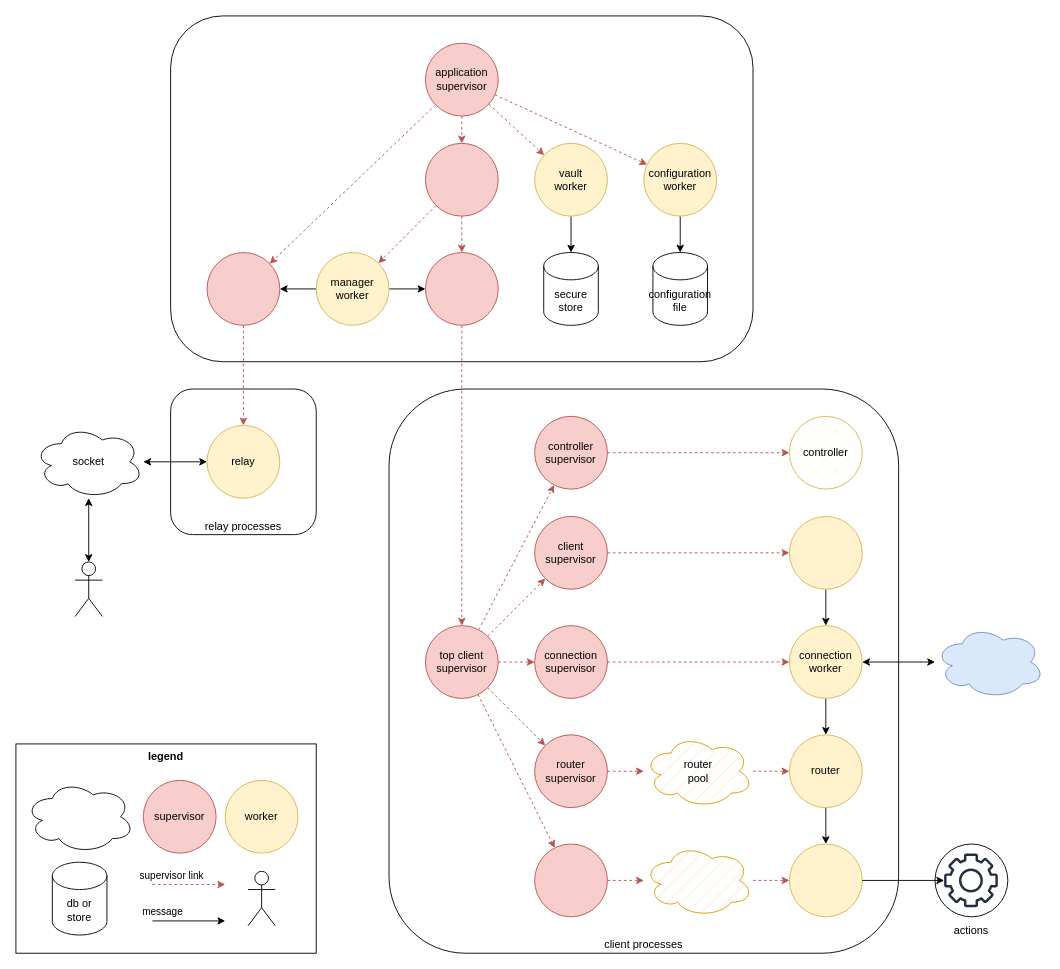
This 1060x969 diagram has some shape labels left out. The box of each missing label's shape, as (x1, y1, x2, y2) in pixels:
Actor: (247, 870, 275, 926)
Client: (74, 561, 102, 617)
client worker: (789, 516, 862, 589)
external relay: (934, 625, 1044, 698)
manager client_sup: (425, 252, 498, 325)
manager supervisor: (425, 142, 498, 216)
nostr application: (170, 15, 753, 362)
pool of processes: (24, 779, 134, 853)
relay supervisor: (206, 252, 280, 325)
subscription: (789, 843, 862, 917)
subscription supervisor: (534, 843, 607, 917)
subscripton pool: (643, 843, 753, 917)
